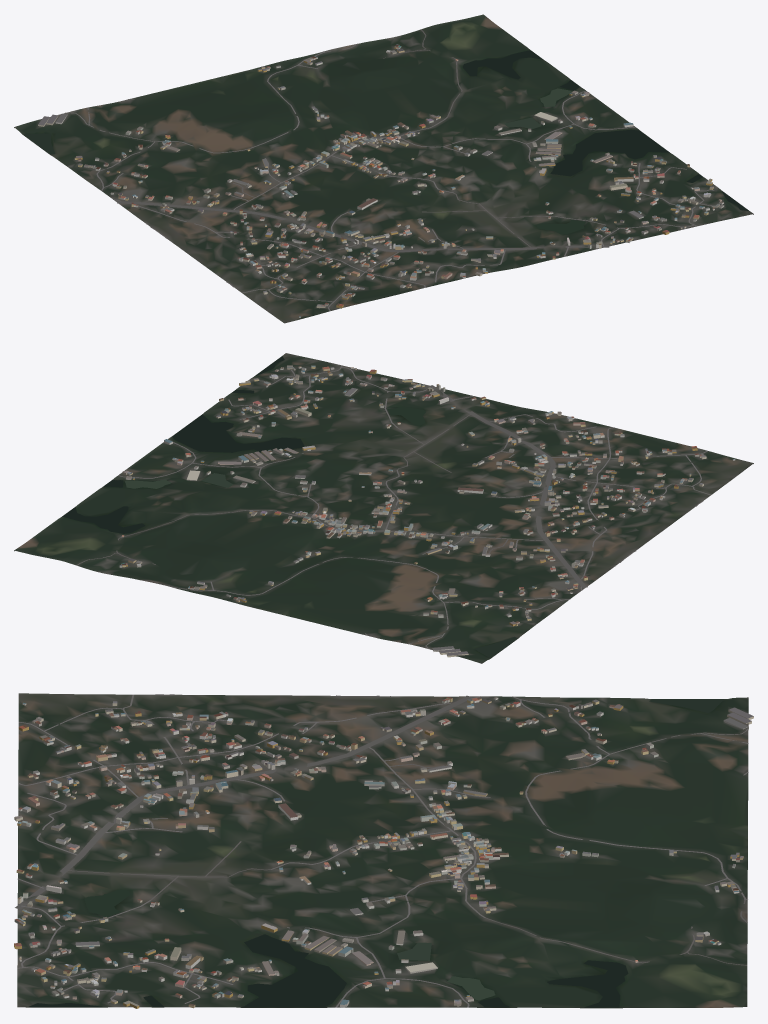
3 renders of one model, top to bottom at view 1: azimuth 30°, elevation 25°; view 2: azimuth 150°, elevation 25°; view 3: azimuth 270°, elevation 25°, orthographic. The views are drawn at different scales.
Parts seen in each view (by area): view 1: ground, buildings, water, roads; view 2: ground, buildings, water, roads; view 3: ground, buildings, water, roads.
Part boxes in pixels (x1,y1,x2,y2): ground: (14,14,753,323); buildings: (38,44,724,317); water: (24,50,748,234); roads: (65,29,714,311); ground: (14,353,753,663); buildings: (119,365,735,657); water: (62,356,517,657); roads: (76,365,710,649); ground: (17,693,748,1008); buildings: (14,697,753,1008); water: (29,699,723,1007); roads: (15,694,748,1007).
Size of the model in its own units: 1409 by 28.49 by 1421.
